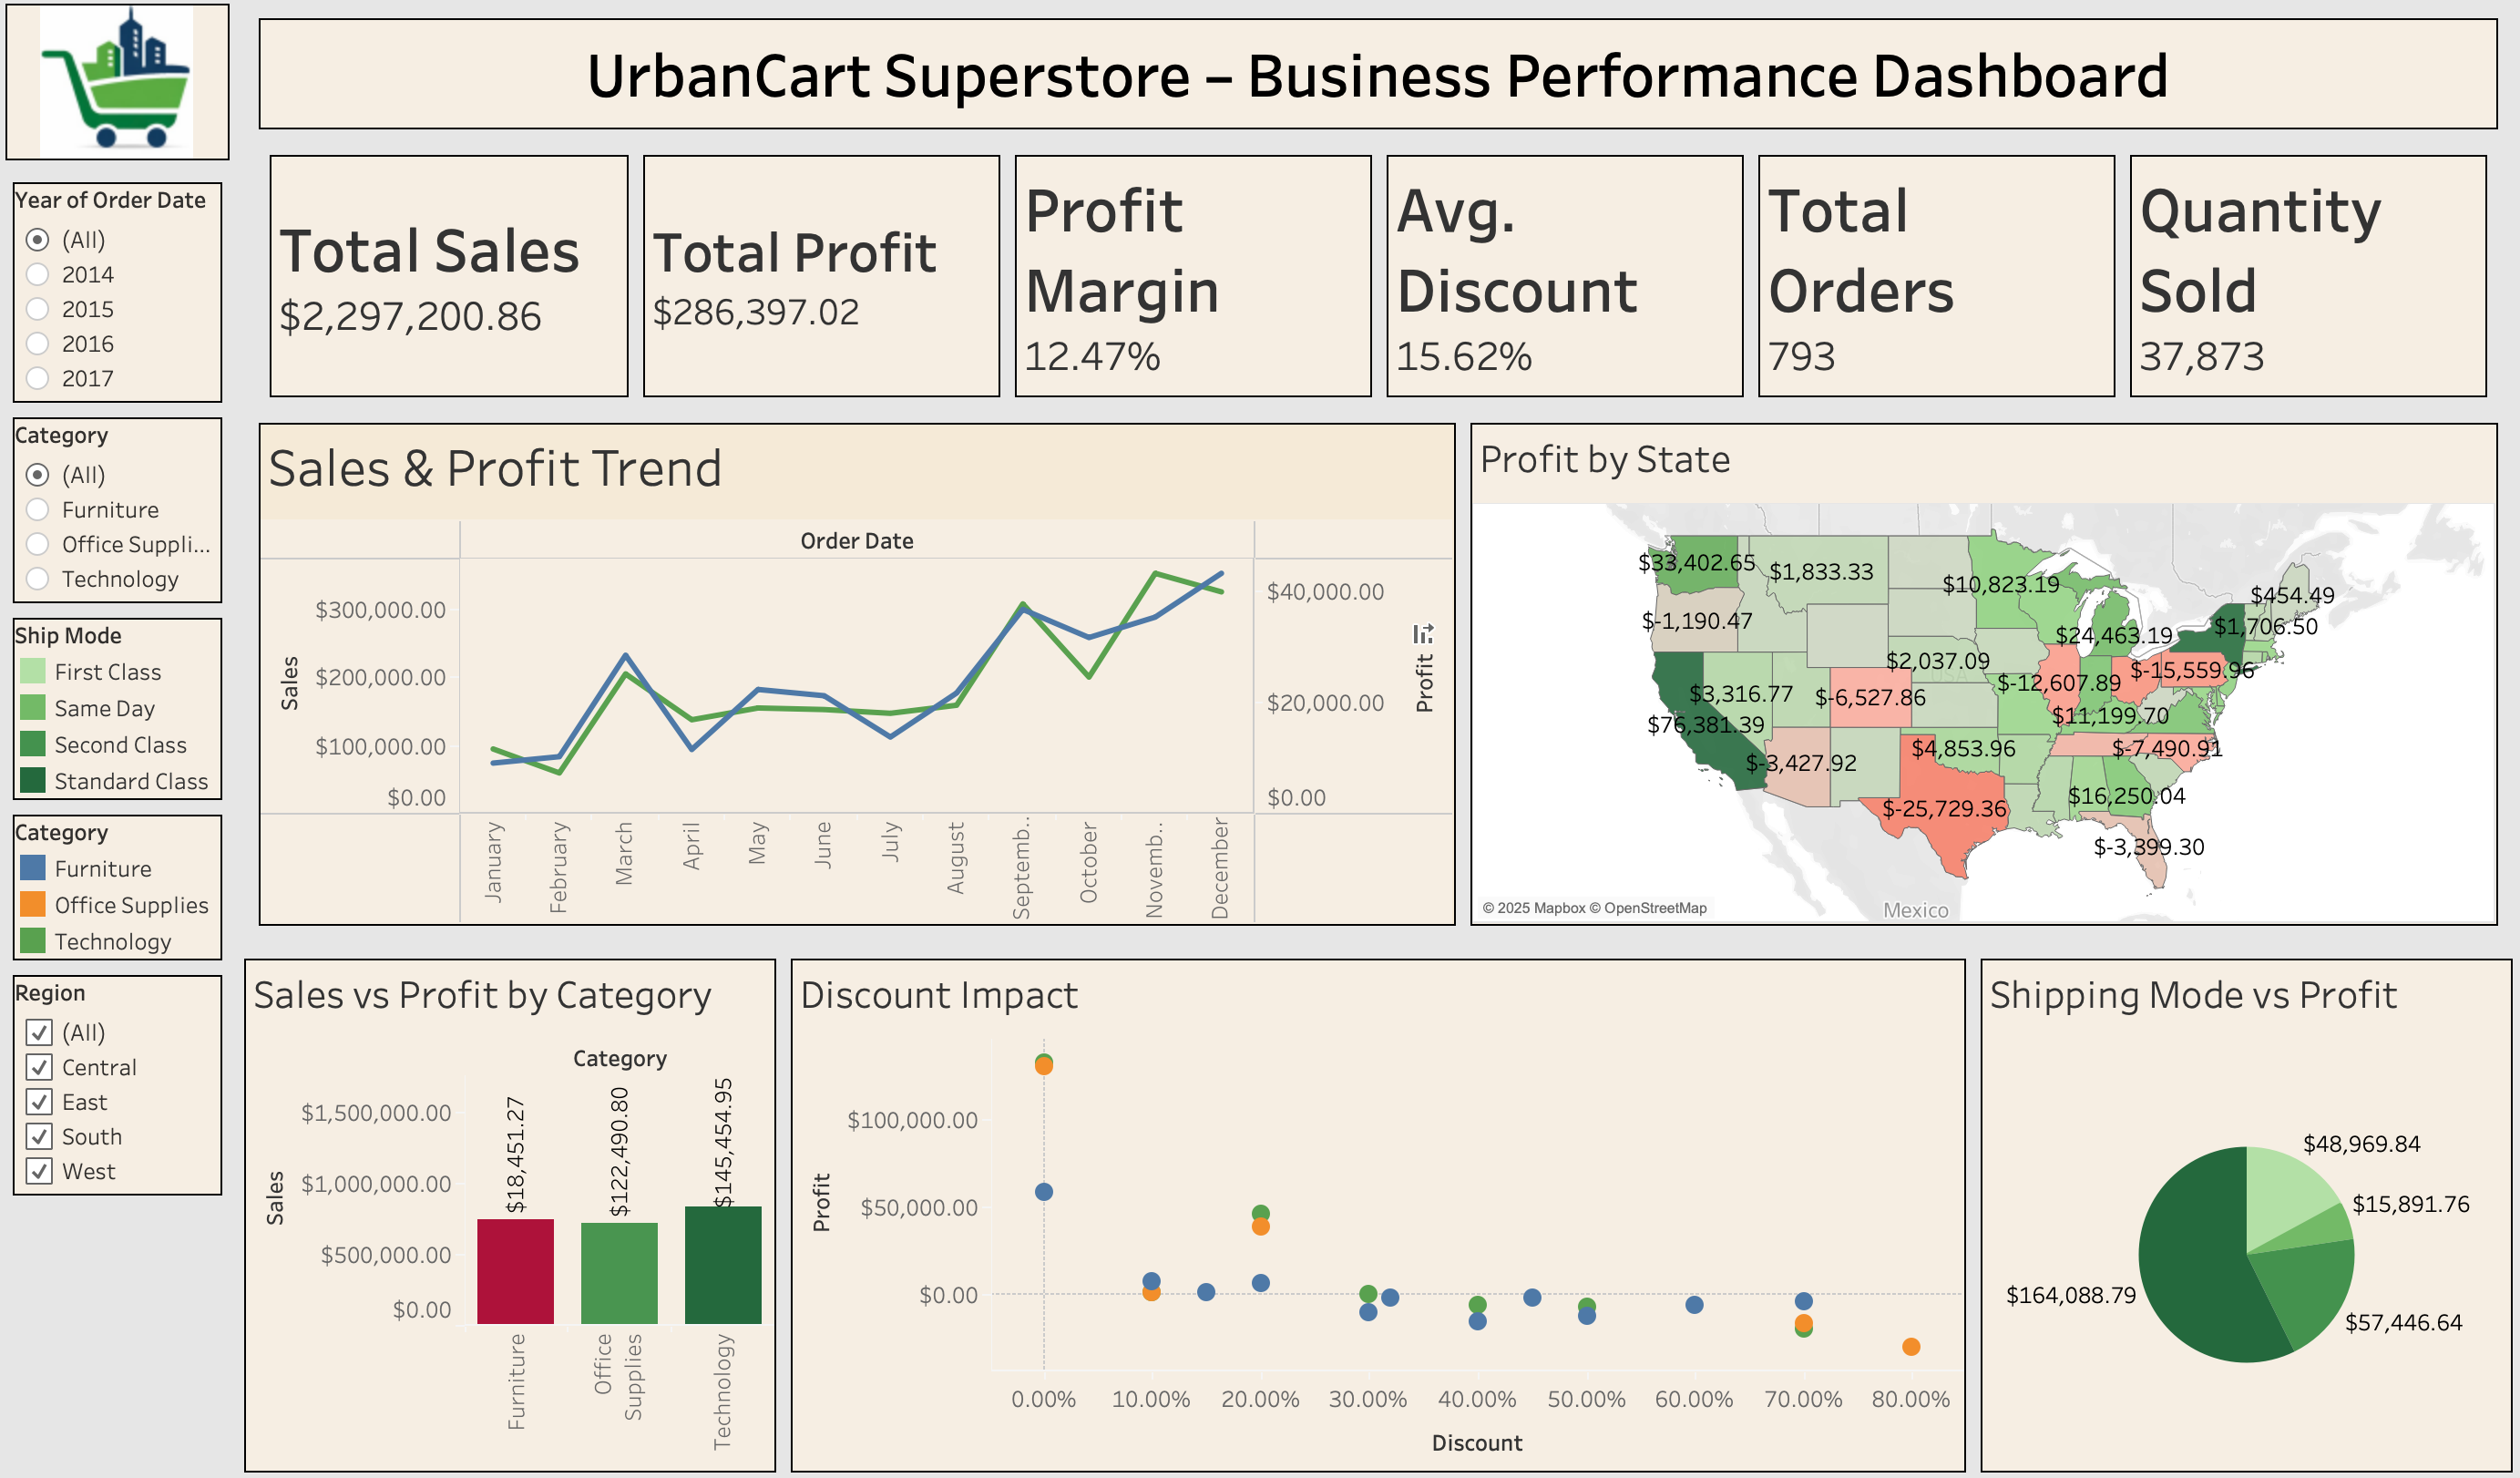

What the dashboard file says about the page in this screenshot:
{"tool":"tableau","page":{"name":"UrbanCart Superstore – Business Performance Dashboard","canvas":[1000,1000],"units":"permille","ordinal":0},"visuals":[{"type":"image","param":"/private/var/folders/z1/t5rnkcpn4rz5bkh6f0hcbj140000gn/T/TemporaryItems/com.appl","box":[6.5,10.4,93.4,112.9]},{"type":"text","box":[106.4,20.8,880.6,89.9]},{"type":"worksheet","title":"Total Sales","mark":"Automatic","box":[111.5,118.5,145.7,183.6]},{"type":"worksheet","title":"Total Profit","mark":"Automatic","box":[257.1,118.5,145.7,183.6]},{"type":"worksheet","title":"Profit Margin","mark":"Automatic","box":[402.8,118.5,144.8,183.6]},{"type":"worksheet","title":"Avg Discount","mark":"Automatic","box":[547.6,118.5,144.8,183.6]},{"type":"worksheet","title":"Total Orders","mark":"Automatic","box":[692.4,118.5,144.8,183.6]},{"type":"worksheet","title":"Total Quantity Sold","mark":"Automatic","box":[837.3,118.5,144.8,183.6]},{"type":"filter","title":"Sales & Profit Trend","param":"[federated.082b9zd03c3z0219wsk5e06nqqg7].[yr:Order Date:ok]","box":[9.8,128.5,86.9,168]},{"type":"filter","title":"Sales vs Profit by Category","param":"[federated.082b9zd03c3z0219wsk5e06nqqg7].[none:Category:nk]","box":[9.8,296.5,86.9,143.2]},{"type":"worksheet","title":"Sales & Profit Trend","mark":"Line","rows":["Sales","Profit"],"cols":["Order Date"],"box":[106.4,309.9,541.1,320]},{"type":"worksheet","title":"Profit by State","mark":"Automatic","box":[647.5,309.9,339.5,320]},{"type":"legend","title":"Shipping Mode vs Profit","param":"[federated.082b9zd03c3z0219wsk5e06nqqg7].[none:Ship Mode:nk]","box":[9.8,439.7,86.9,140.6]},{"type":"legend","title":"Discount Impact","param":"[federated.082b9zd03c3z0219wsk5e06nqqg7].[none:Category:nk]","box":[9.8,580.4,86.9,114.6]},{"type":"worksheet","title":"Sales vs Profit by Category","mark":"Automatic","rows":["Sales"],"cols":["Category"],"box":[99.9,640.4,244.1,349.2]},{"type":"worksheet","title":"Discount Impact","mark":"Circle","rows":["Profit"],"cols":["Discount"],"box":[344,640.4,405.4,349.2]},{"type":"worksheet","title":"Shipping Mode vs Profit","mark":"Pie","box":[749.4,640.4,244.1,349.2]},{"type":"filter","title":"Avg Discount","param":"[federated.082b9zd03c3z0219wsk5e06nqqg7].[none:Region:nk]","box":[9.8,695,86.9,168]}]}

Visuals, with their boxes on the dashboard's canvas, which has no fixed pixel size, in thousandths of its width and height (x1, y1, x2, y2). These are canvas units, not pixel positions in the 2520x1478 screenshot, which may show the page scaled, cropped or inside an application window:
image: left=6, top=10, right=100, bottom=123
text: left=106, top=21, right=987, bottom=111
"Total Sales" worksheet: left=112, top=118, right=257, bottom=302
"Total Profit" worksheet: left=257, top=118, right=403, bottom=302
"Profit Margin" worksheet: left=403, top=118, right=548, bottom=302
"Avg Discount" worksheet: left=548, top=118, right=692, bottom=302
"Total Orders" worksheet: left=692, top=118, right=837, bottom=302
"Total Quantity Sold" worksheet: left=837, top=118, right=982, bottom=302
"Sales & Profit Trend" filter: left=10, top=128, right=97, bottom=296
"Sales vs Profit by Category" filter: left=10, top=296, right=97, bottom=440
"Sales & Profit Trend" worksheet (Line marks): left=106, top=310, right=648, bottom=630
"Profit by State" worksheet: left=648, top=310, right=987, bottom=630
"Shipping Mode vs Profit" legend: left=10, top=440, right=97, bottom=580
"Discount Impact" legend: left=10, top=580, right=97, bottom=695
"Sales vs Profit by Category" worksheet: left=100, top=640, right=344, bottom=990
"Discount Impact" worksheet (Circle marks): left=344, top=640, right=749, bottom=990
"Shipping Mode vs Profit" worksheet (Pie marks): left=749, top=640, right=994, bottom=990
"Avg Discount" filter: left=10, top=695, right=97, bottom=863
